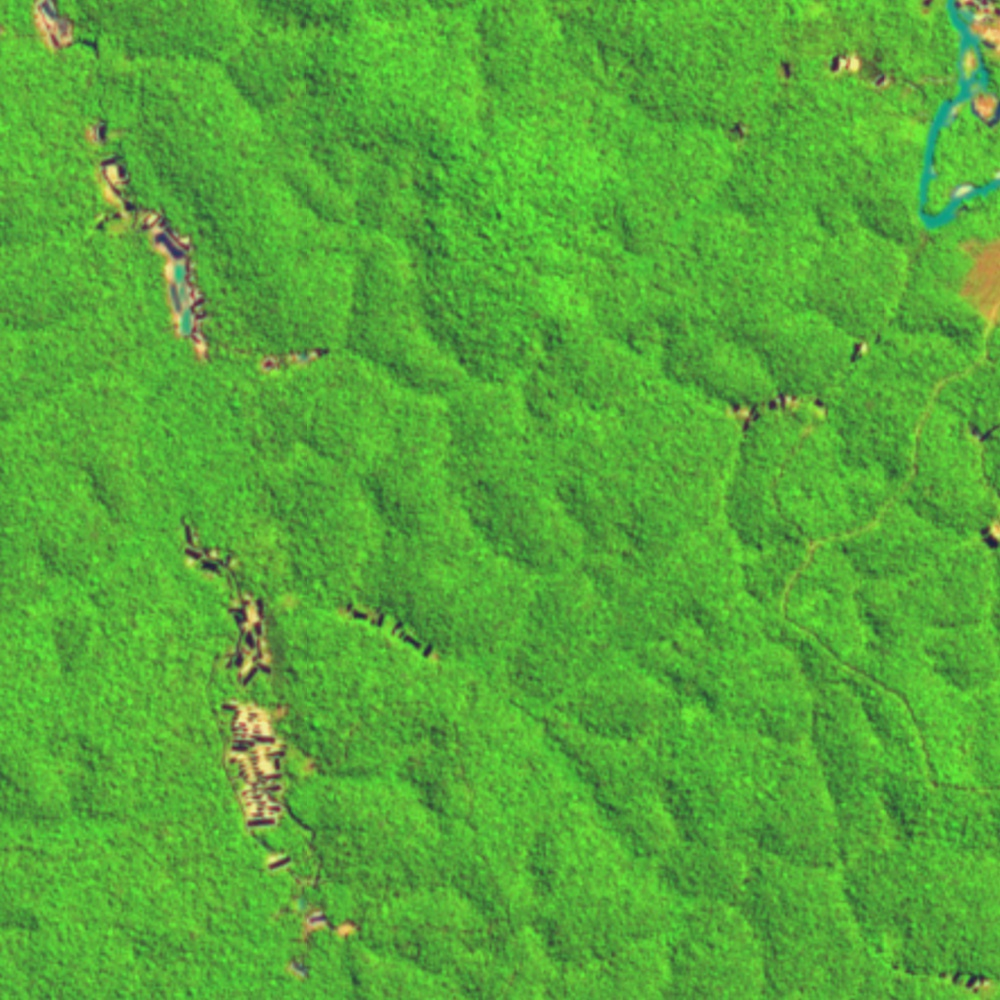illegal: (170, 515, 373, 987), (77, 113, 218, 368), (914, 1, 1000, 131), (764, 46, 924, 102), (339, 597, 450, 670), (711, 382, 841, 441), (873, 949, 998, 996), (27, 1, 105, 64), (255, 342, 335, 378), (958, 414, 1000, 453), (849, 330, 886, 366), (970, 511, 1000, 552), (725, 116, 753, 141)
